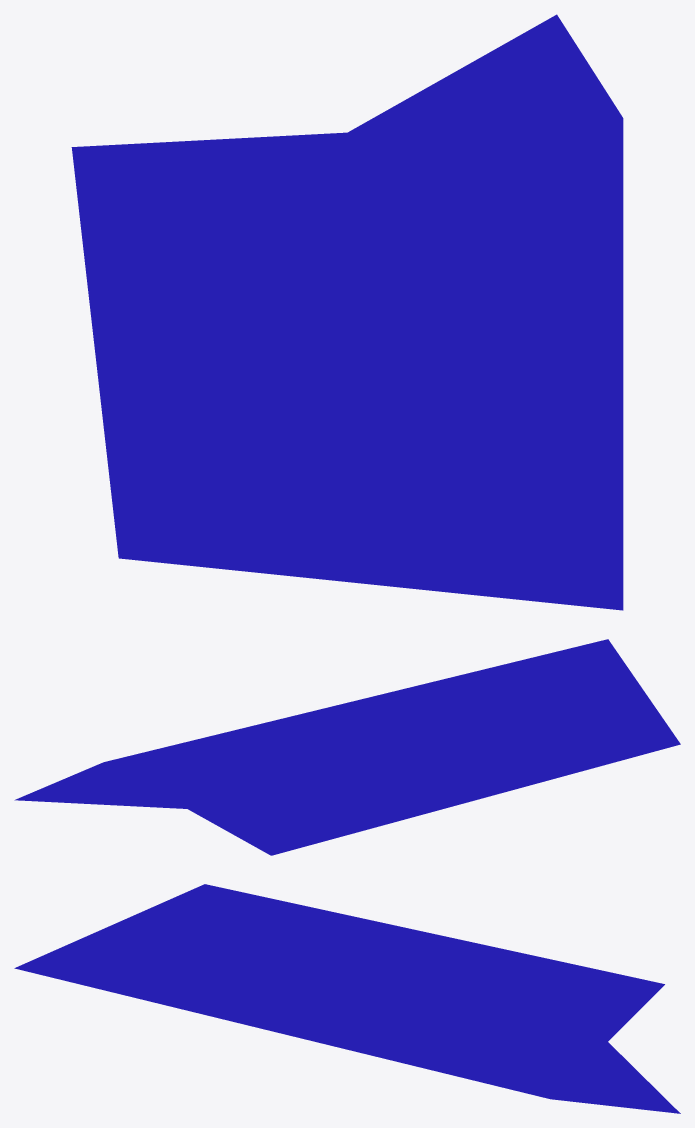
File: suelo_agua_p3.fbx
3 renders of one model, top to bottom at view 1: azimuth 30°, elevation 25°; view 2: azimuth 150°, elevation 25°; view 3: azimuth 270°, elevation 25°, orthographic. The views are drawn at different scales.
Parts seen in each view (by area): view 1: Cylinder005; view 2: Cylinder005; view 3: Cylinder005.
Part boxes in pixels (left/top/right/bottom): Cylinder005: left=71, top=14, right=623, bottom=610; Cylinder005: left=14, top=639, right=680, bottom=855; Cylinder005: left=14, top=884, right=680, bottom=1113.
Size of the model in its own units: 38.18 by 1.56e-07 by 46.82.
